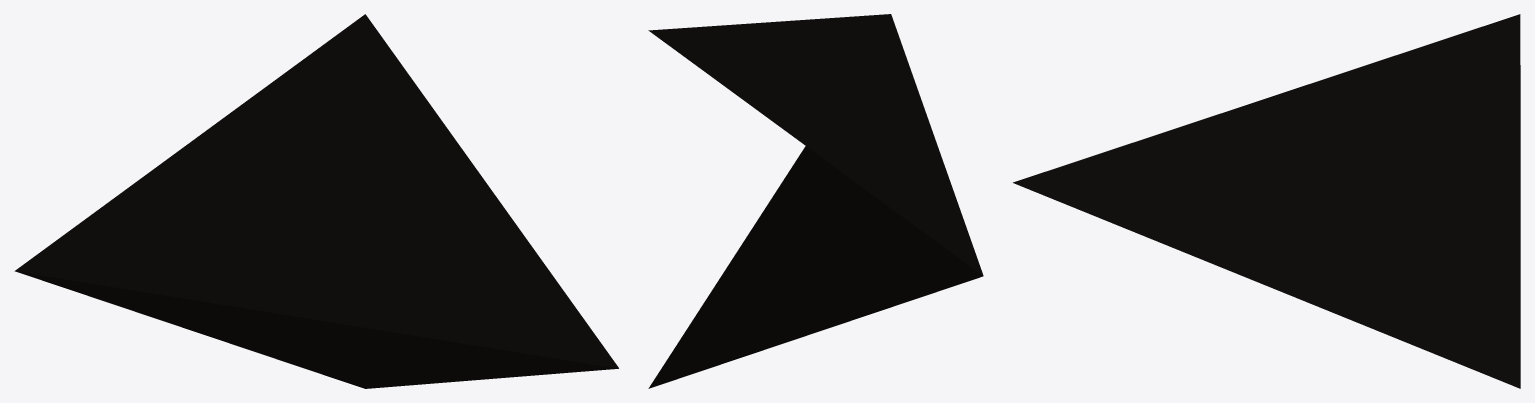
3 views of the same model, side by side, from view 1: azimuth 30°, elevation 25°; view 2: azimuth 150°, elevation 25°; view 3: azimuth 270°, elevation 25° (orthographic). The views are drawn at different scales.
Bounding box in the file's own units: 0.00879 × 0.00897 × 0.011.
Materials: 1 (1 with a texture image).
